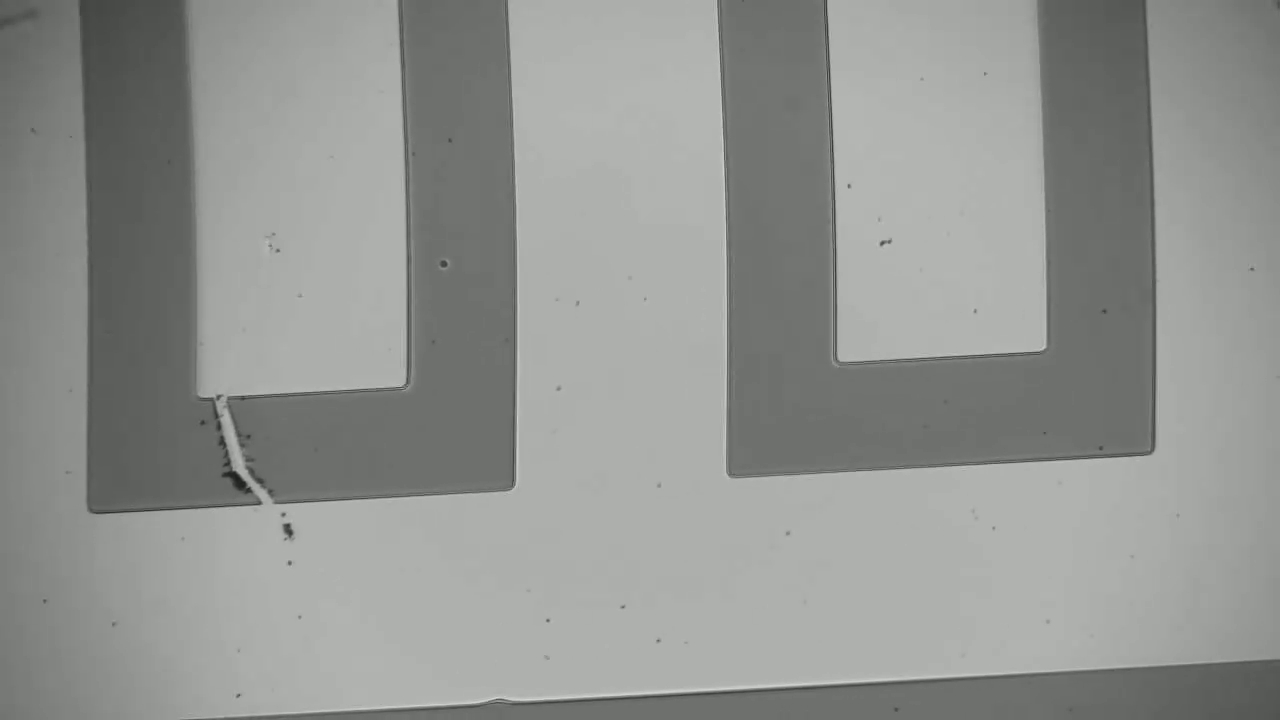Short_circuit: (196, 379, 306, 524)
